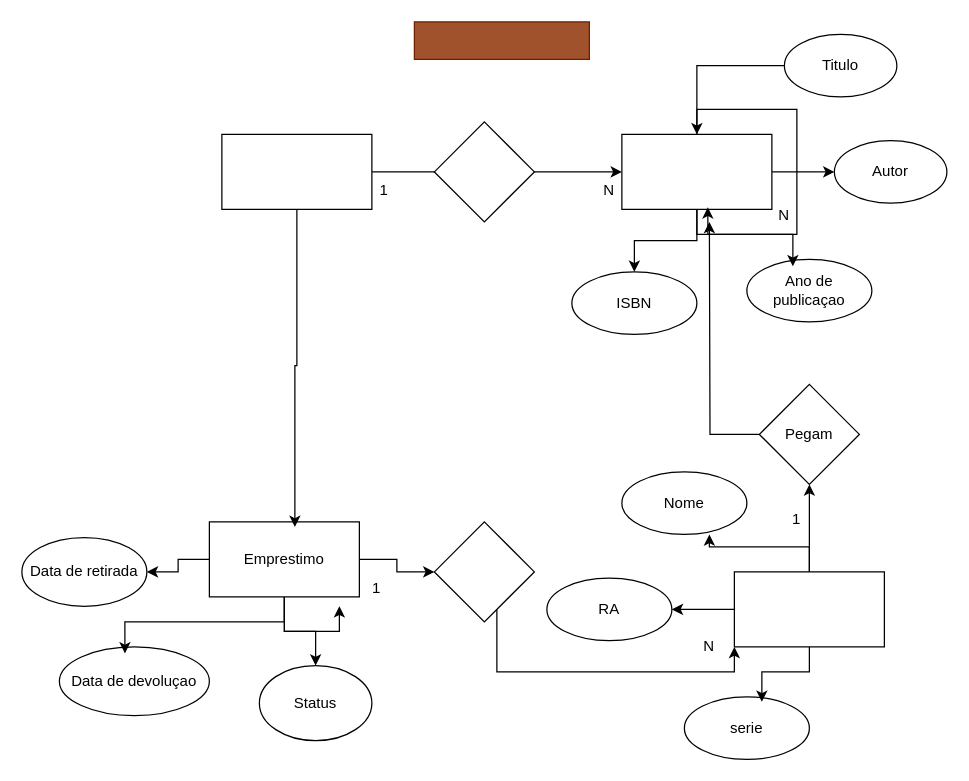
The diagram is 969 pixels wide and 781 high, and some of its shapes have lost their labels. Each missing label, with the box of its shape:
Acervo: (221, 133, 372, 209)
Aluno: (733, 571, 884, 647)
BIBLIOTECA: (413, 21, 589, 59)
Contem: (433, 121, 534, 222)
Fazem: (433, 521, 534, 622)
Livro: (621, 133, 772, 209)
